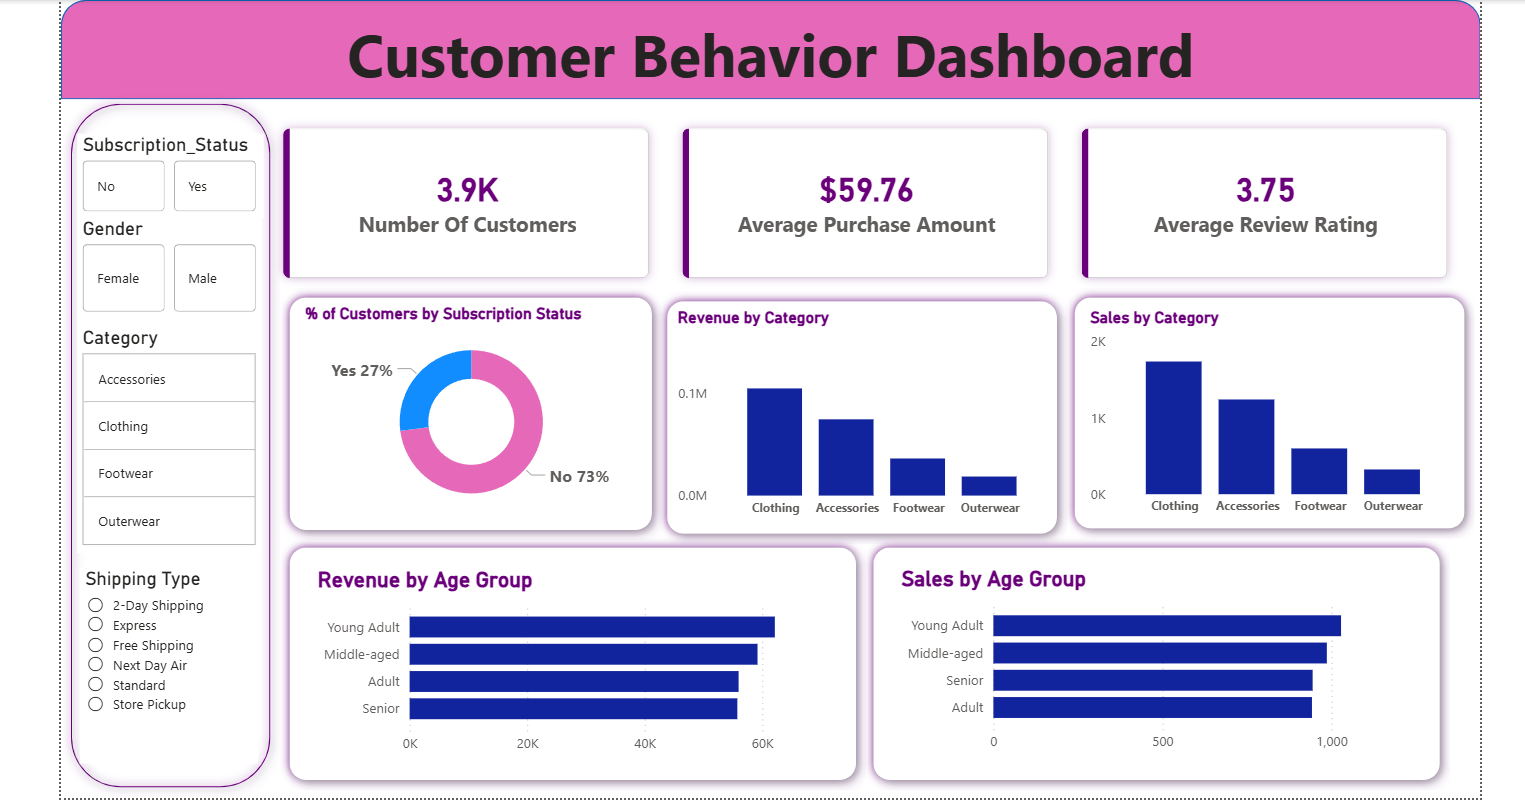

The dashboard page shown, as its layout file describes it:
{"tool":"powerbi","page":{"name":"Page 1","canvas":[1280,720],"ordinal":0},"visuals":[{"type":"cardVisual","fields":{"Data":["customer.Number Of Customers","customer.Average Purchase Amount","customer.Average Review Rating"]},"box":[172.9,88.3,1107.1,191.6],"z":0},{"type":"shape","box":[0,0,1280,89.6],"z":1000},{"type":"textbox","box":[0,7,1280,82.6],"z":2000},{"type":"shape","box":[197.8,258.7,344.6,227.6],"z":3000},{"type":"donutChart","title":"% of Customers by Subscription  Status","fields":{"Category":["customer.subscription_status"],"Y":["CountNonNull(customer.customer_id)"]},"box":[215.2,273.7,309.7,196.5],"z":4000},{"type":"shape","box":[538.1,262.2,369.5,227.6],"z":5000},{"type":"shape","box":[905.6,259.2,369.5,226.4],"z":6000},{"type":"clusteredColumnChart","title":"Revenue by Category","fields":{"Y":["Sum(customer.purchase_amount)"],"Category":["customer.category"]},"box":[551.1,277.4,343.6,197.8],"z":7000},{"type":"clusteredColumnChart","title":"Sales by Category","fields":{"Y":["CountNonNull(customer.customer_id)"],"Category":["customer.category"]},"box":[923.3,276.9,335.9,196.5],"z":8000},{"type":"shape","box":[0,84.6,197.8,634.4],"z":9000},{"type":"advancedSlicerVisual","fields":{"Values":["customer.subscription_status"]},"box":[14.9,120.7,167.9,75.9],"z":10000},{"type":"advancedSlicerVisual","fields":{"Values":["customer.gender"]},"box":[14.9,196.5,166.7,90.8],"z":11000},{"type":"advancedSlicerVisual","fields":{"Values":["customer.category"]},"box":[14.9,287.4,166.7,211.5],"z":12000},{"type":"listSlicer","fields":{"Values":["customer.shipping_type"]},"box":[17.4,511.3,160.5,176.6],"z":13000},{"type":"shape","box":[197.8,485.1,528.7,227.6],"z":15000},{"type":"clusteredBarChart","title":"Revenue by Age Group","fields":{"Y":["Sum(customer.purchase_amount)"],"Category":["customer.age_group"]},"box":[226.4,511.3,473.9,176.6],"z":15500},{"type":"shape","box":[724,484.9,528.7,227.6],"z":16000},{"type":"clusteredBarChart","title":"Sales by Age Group","fields":{"Y":["CountNonNull(customer.customer_id)"],"Category":["customer.age_group"]},"box":[752.6,510,473.9,176.6],"z":17001}]}

Visuals, with their boxes in screenshot pixels (x1, y1, x2, y2):
cardVisual - customer.Number Of Customers x customer.Average Purchase Amount: select_region(254, 94, 1477, 305)
shape: select_region(64, 0, 1477, 95)
textbox: select_region(64, 4, 1477, 95)
shape: select_region(282, 282, 662, 533)
"% of Customers by Subscription  Status" donutChart: select_region(301, 298, 643, 515)
shape: select_region(658, 286, 1066, 537)
shape: select_region(1064, 282, 1472, 532)
"Revenue by Category" clusteredColumnChart: select_region(672, 302, 1051, 521)
"Sales by Category" clusteredColumnChart: select_region(1083, 302, 1454, 519)
shape: select_region(64, 89, 282, 790)
advancedSlicerVisual - customer.subscription_status: select_region(80, 129, 265, 213)
advancedSlicerVisual - customer.gender: select_region(80, 213, 264, 313)
advancedSlicerVisual - customer.category: select_region(80, 313, 264, 547)
listSlicer - customer.shipping_type: select_region(83, 561, 260, 756)
shape: select_region(282, 532, 866, 783)
"Revenue by Age Group" clusteredBarChart: select_region(314, 561, 837, 756)
shape: select_region(863, 531, 1447, 783)
"Sales by Age Group" clusteredBarChart: select_region(895, 559, 1418, 754)
